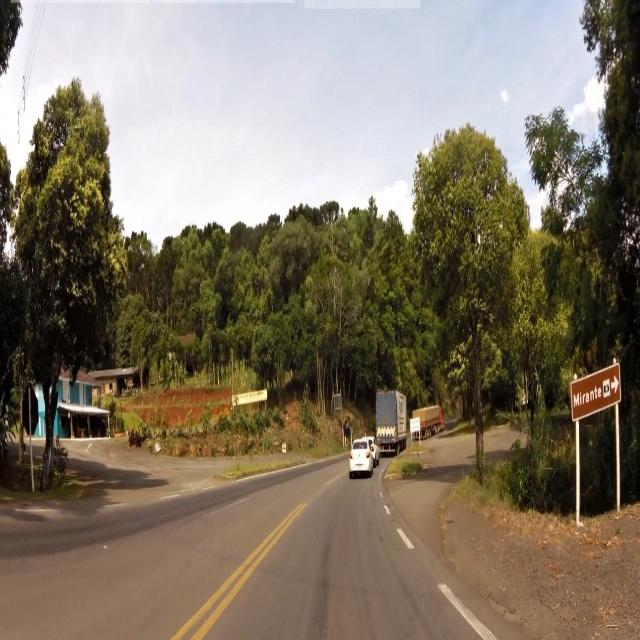TUR-4: (570, 360, 624, 421)
